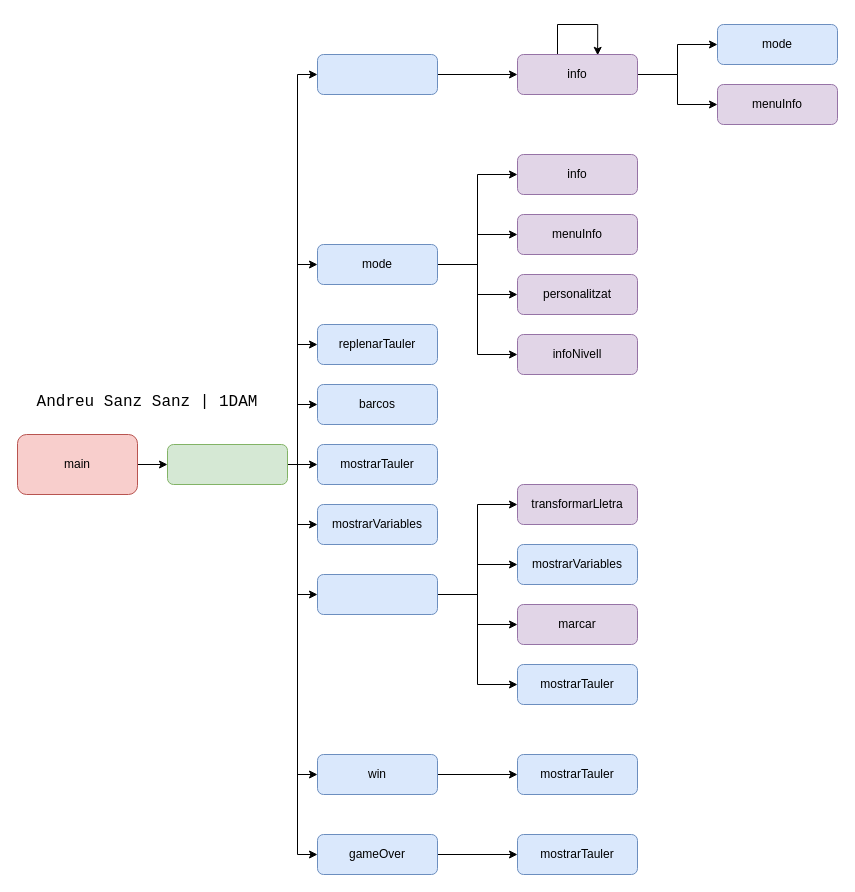
The diagram is 855 pixels wide and 892 high, and some of its shapes have lost their labels. Each missing label, with the centre of its shape:
"jugar" belongs at (227,464).
"menu" belongs at (377,74).
"preguntar" belongs at (377,594).
